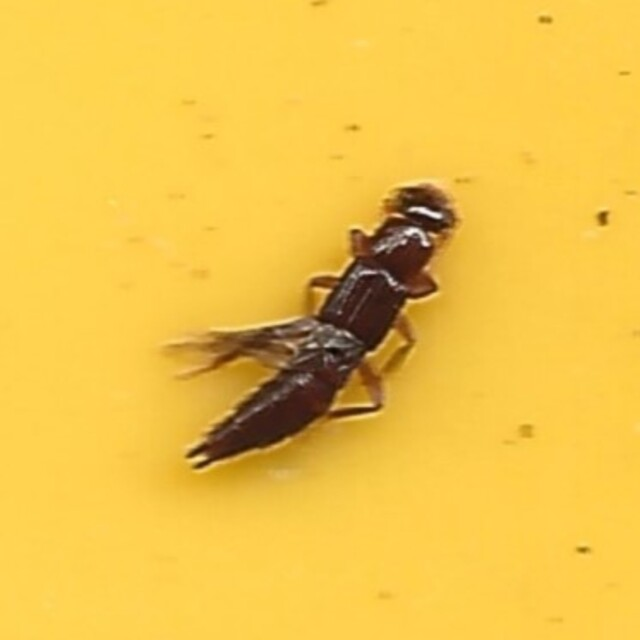Coleoptera: (172, 171, 468, 469)
